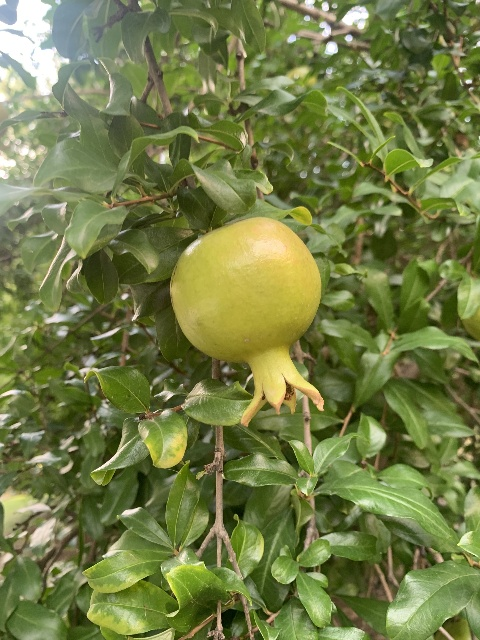mid-growth: (169, 216, 324, 426)
